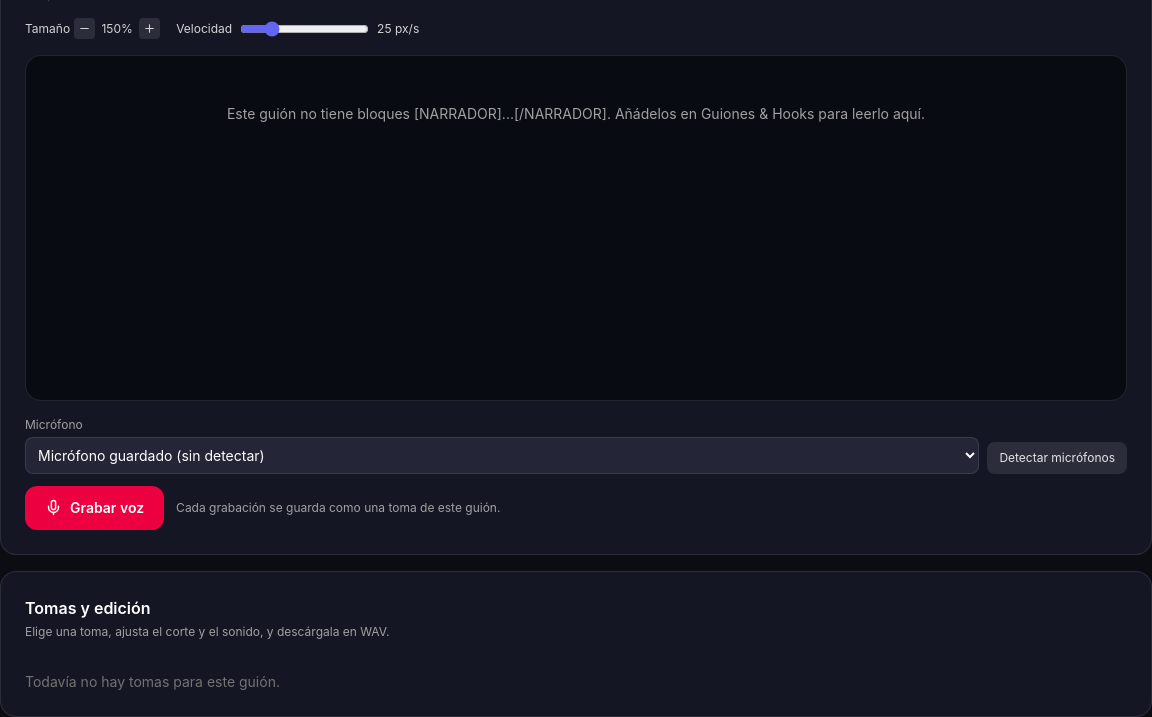
Test: RecordingStudio › carga los guiones existentes y guarda una toma con su ID
(page scrolled)
Click the button "Grabar voz": (95, 508) [25,486,164,530]
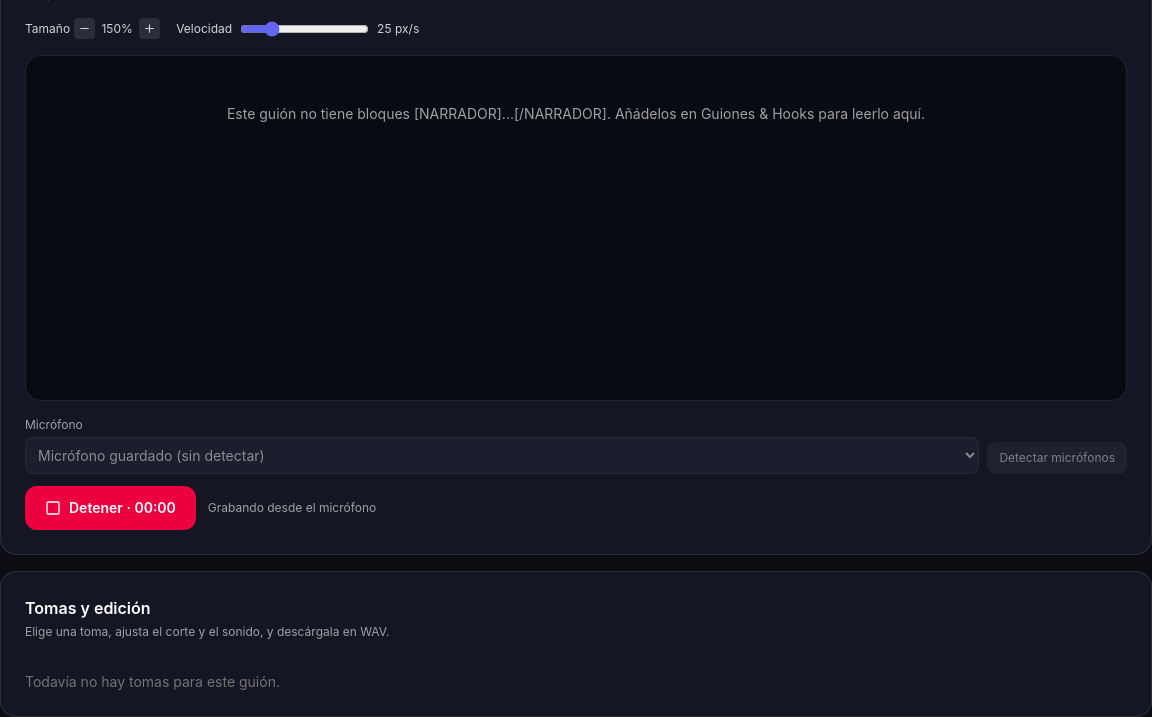
Expected: the button "Detener · 00:00" is shown
Click the button "Detener · 00:00": (110, 508) [25,486,196,530]
(page scrolled)
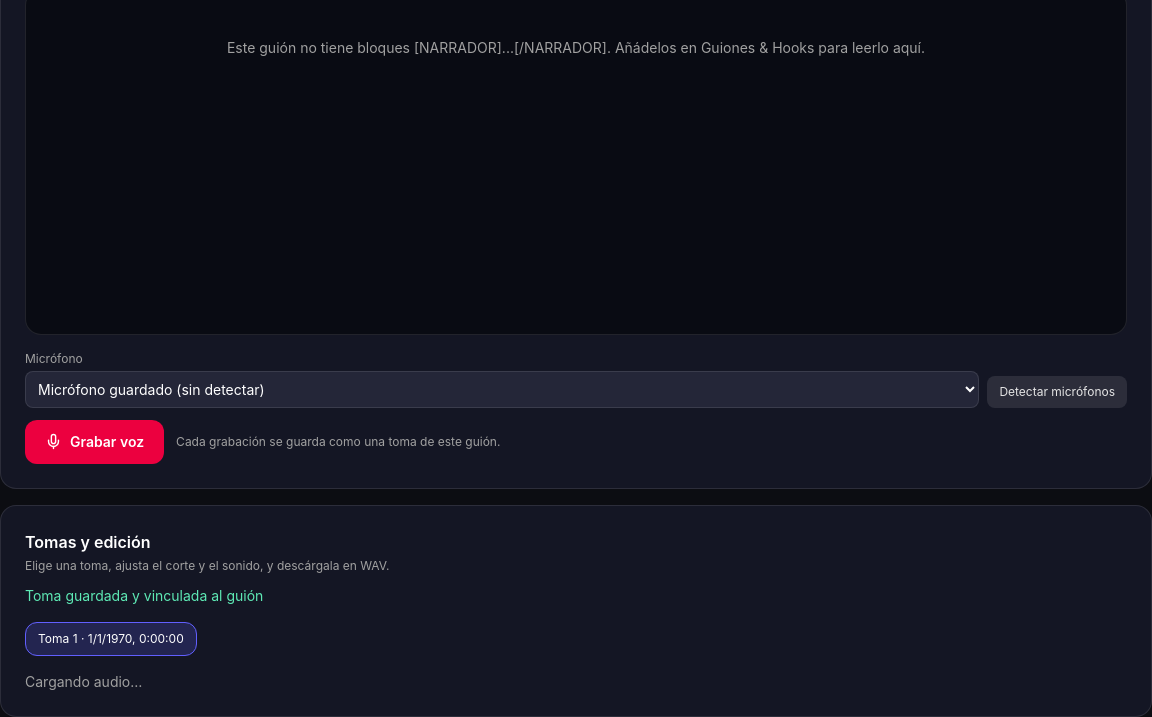
Expected: the button "Toma 1 · 1/1/1970, 0:00:00" is shown, [25,622,197,656]
